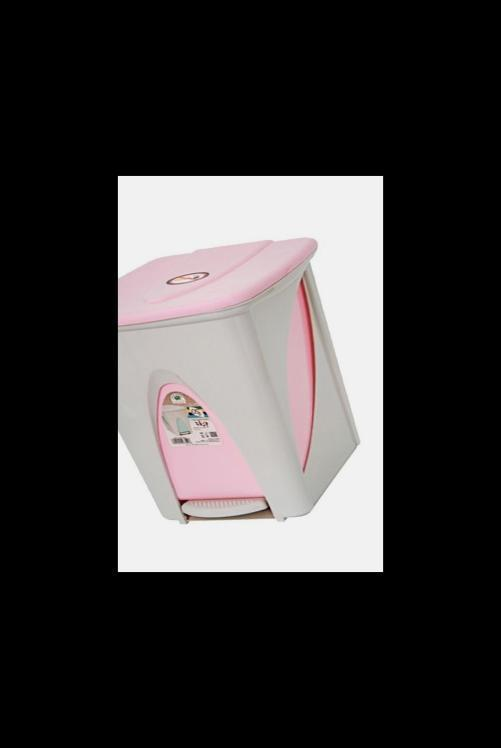Bote de Basura: (122, 241, 361, 525)
